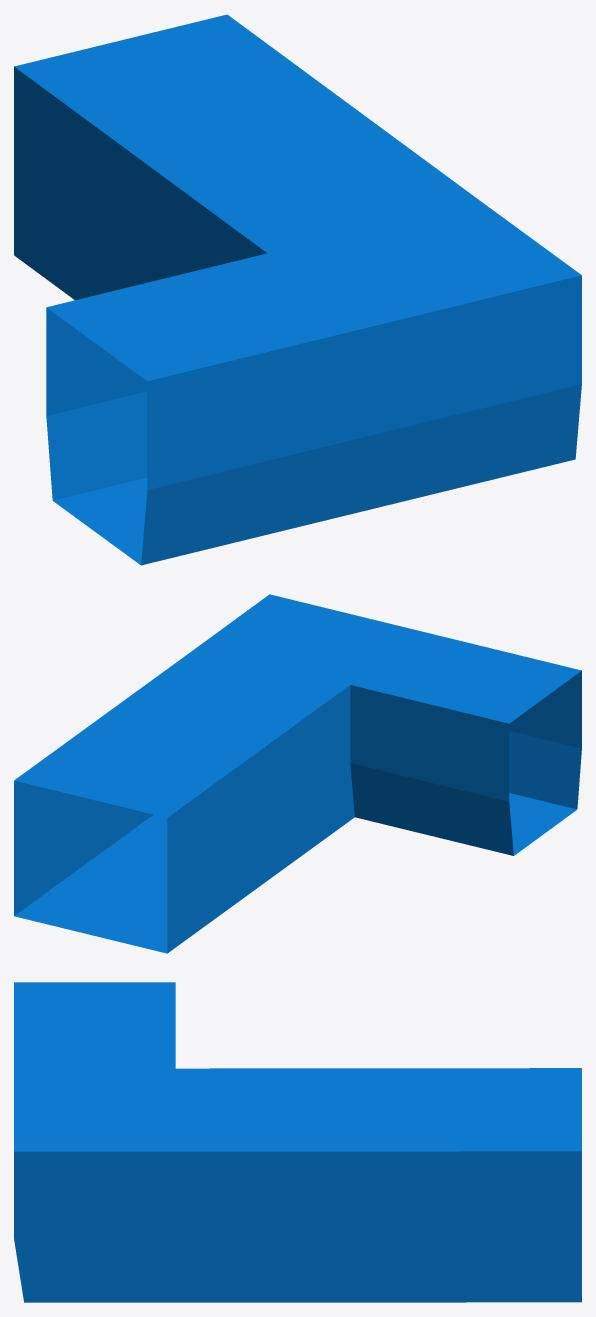
Rendered from Entrance (Unique).fbx.
3 views of the same model, one above another, from view 1: azimuth 30°, elevation 25°; view 2: azimuth 150°, elevation 25°; view 3: azimuth 270°, elevation 25° (orthographic). The views are drawn at different scales.
Parts seen in each view (by area): view 1: Entrance (Unique); view 2: Entrance (Unique); view 3: Entrance (Unique).
Part boxes in pixels (x1,y1,x2,y2): Entrance (Unique): (14,14,581,565); Entrance (Unique): (14,594,581,953); Entrance (Unique): (14,982,581,1302).
Size of the model in its own units: 393 by 164 by 556.
